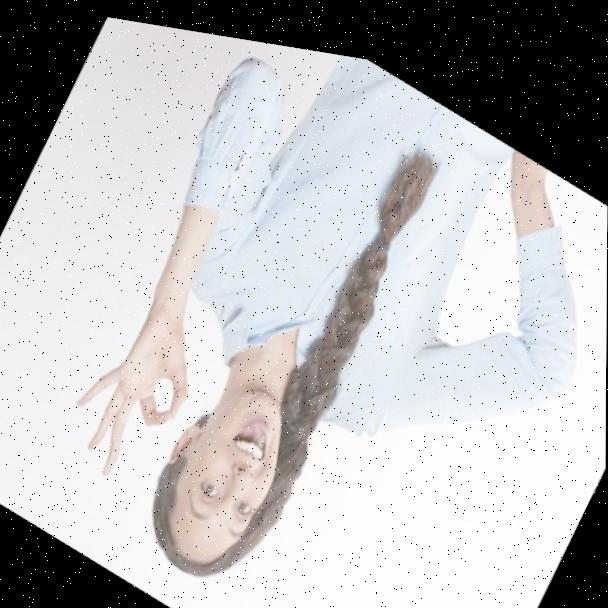five: (47, 268, 220, 510)
